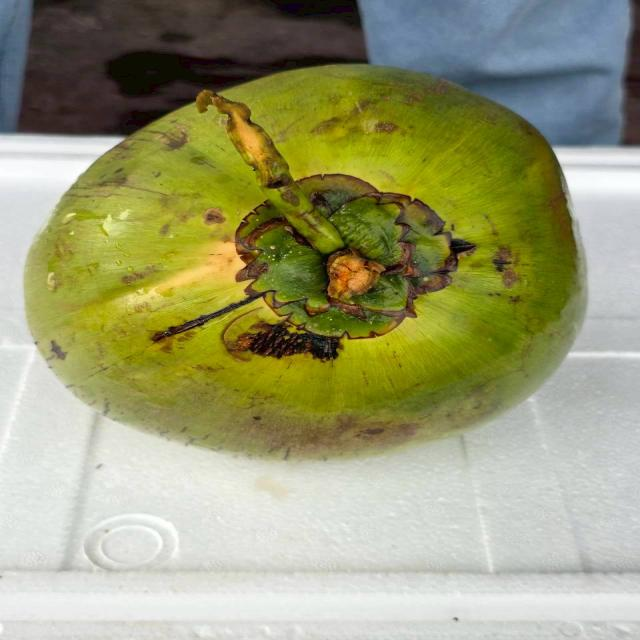coco_2.0: (175, 148, 512, 364)
